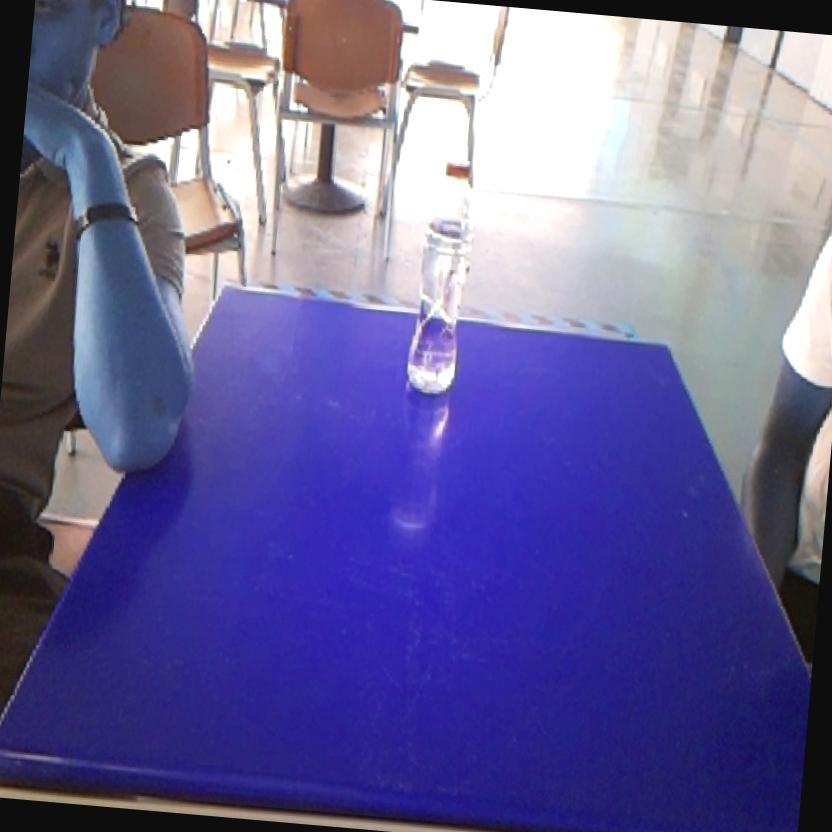no_label: (396, 147, 487, 406)
